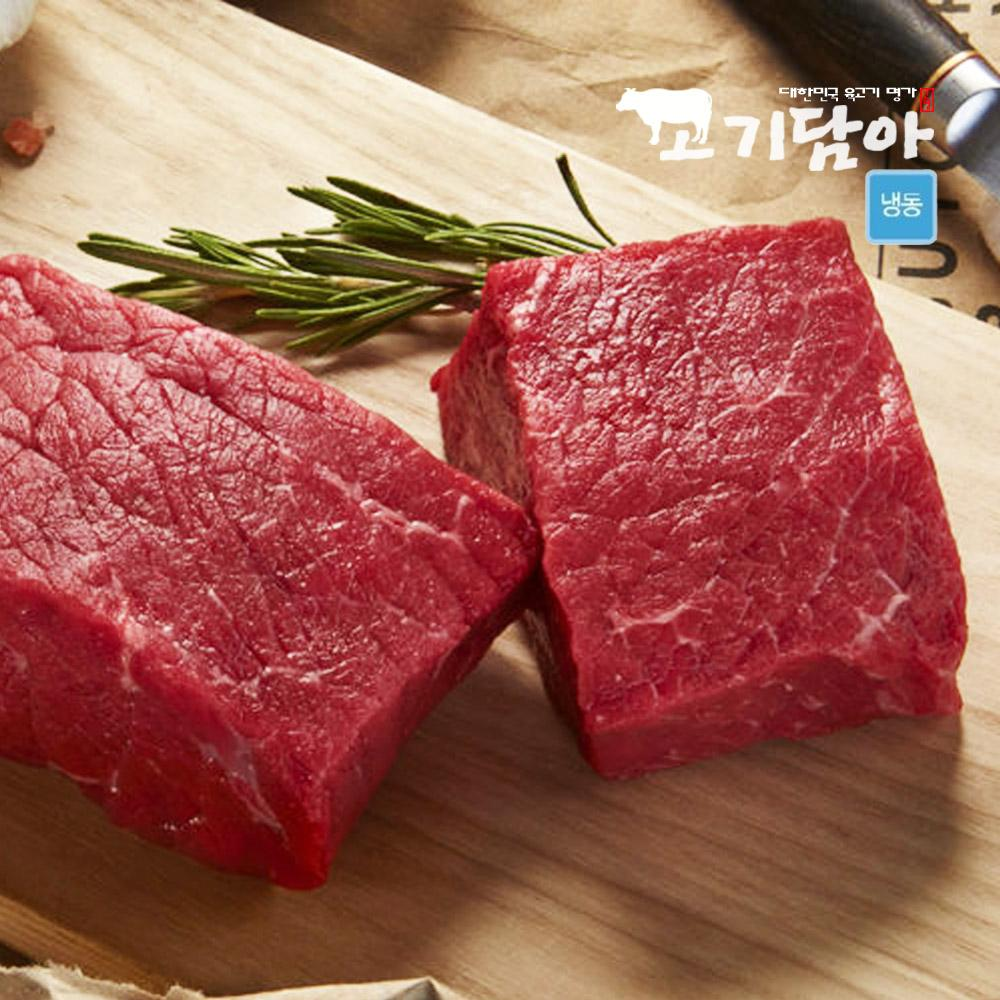beef: (148, 570, 600, 1000), (752, 453, 1000, 1000)
